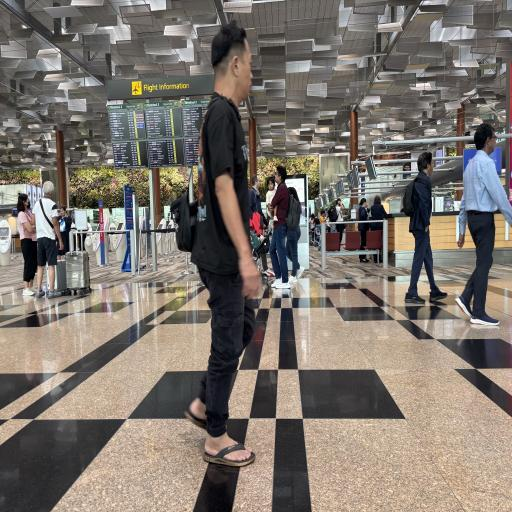person_right: (191, 14, 273, 474), (460, 117, 510, 333), (402, 150, 450, 308)
